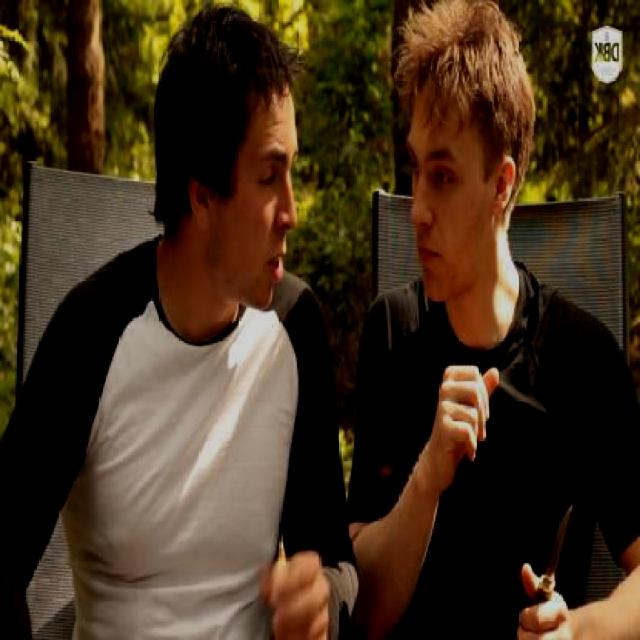knife: (517, 491, 583, 640)
